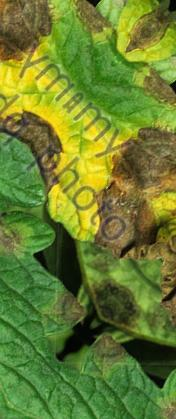Tomato leaf late blight: (2, 1, 176, 297), (0, 132, 164, 418)
